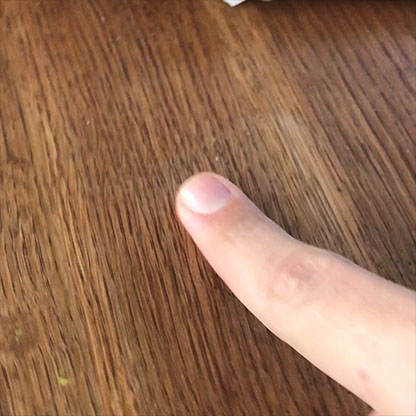fingertip: (161, 158, 252, 257)
